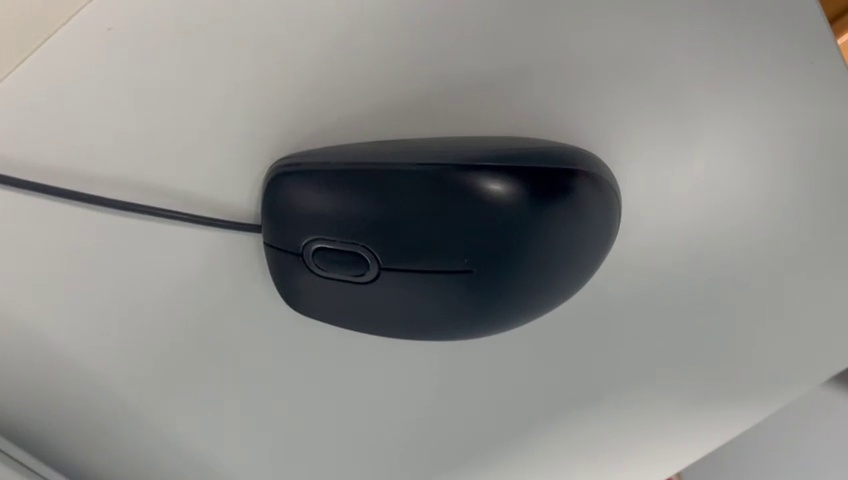objeto: (241, 122, 636, 356)
